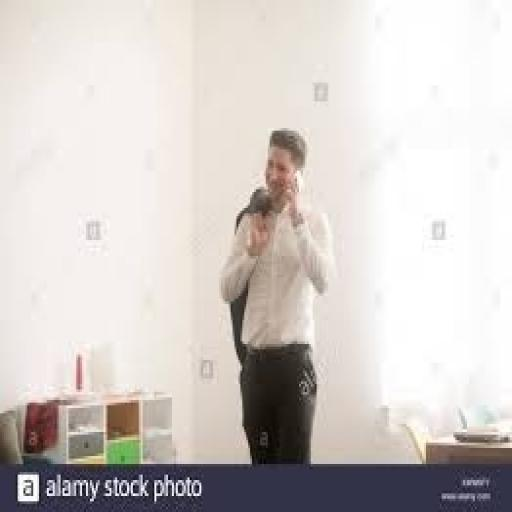calling: (217, 125, 334, 464)
